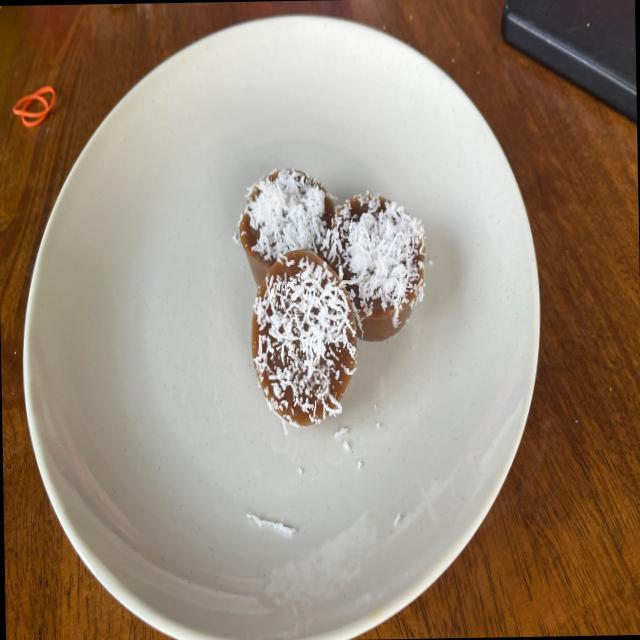Kuih lompang: (251, 249, 356, 425), (325, 192, 424, 341), (238, 169, 334, 286)
